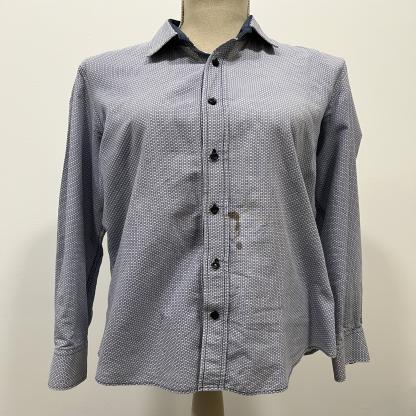stain: (222, 209, 244, 239), (232, 239, 247, 251)
